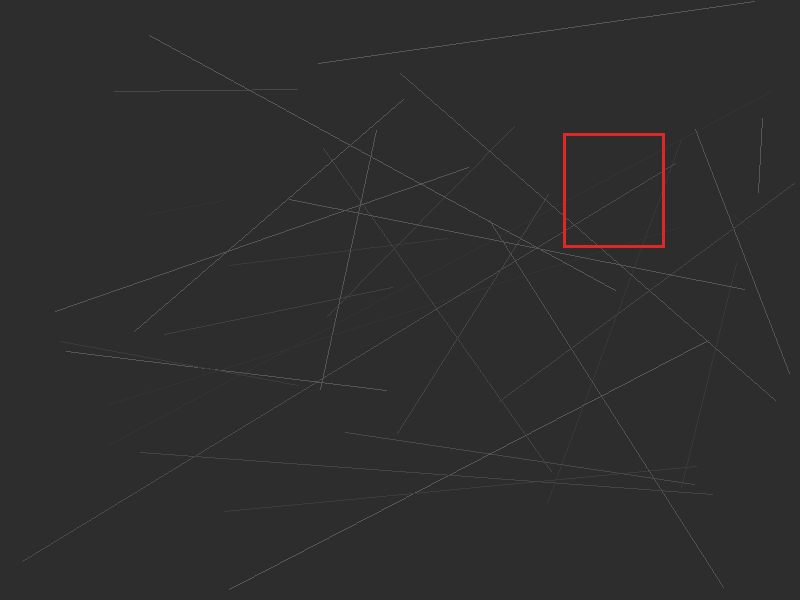D40: (563, 133, 664, 247)
